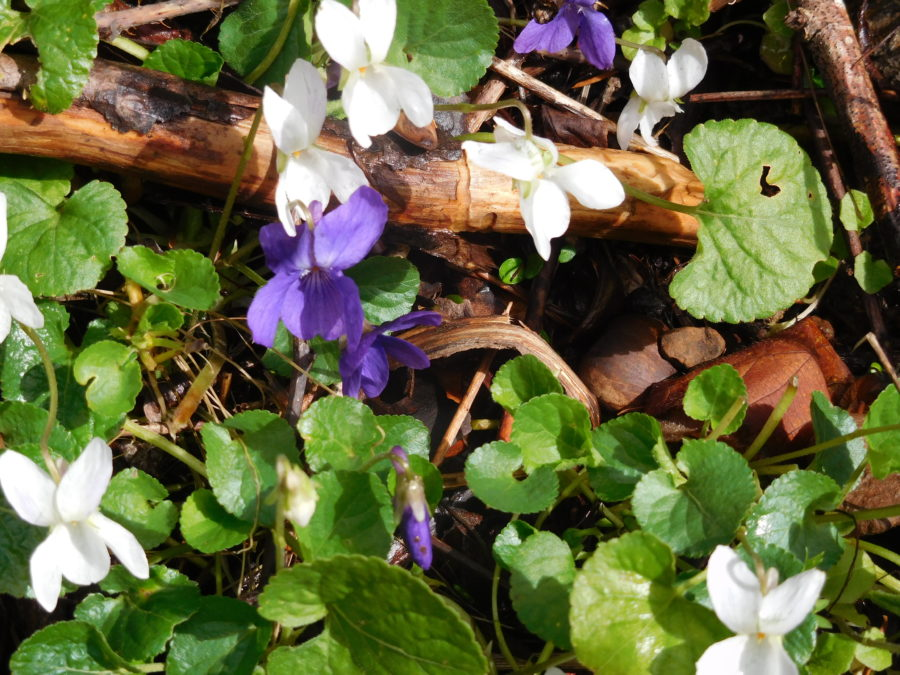violet: (460, 113, 632, 267), (1, 450, 170, 601), (696, 539, 834, 675), (247, 213, 368, 350), (517, 8, 623, 84)
